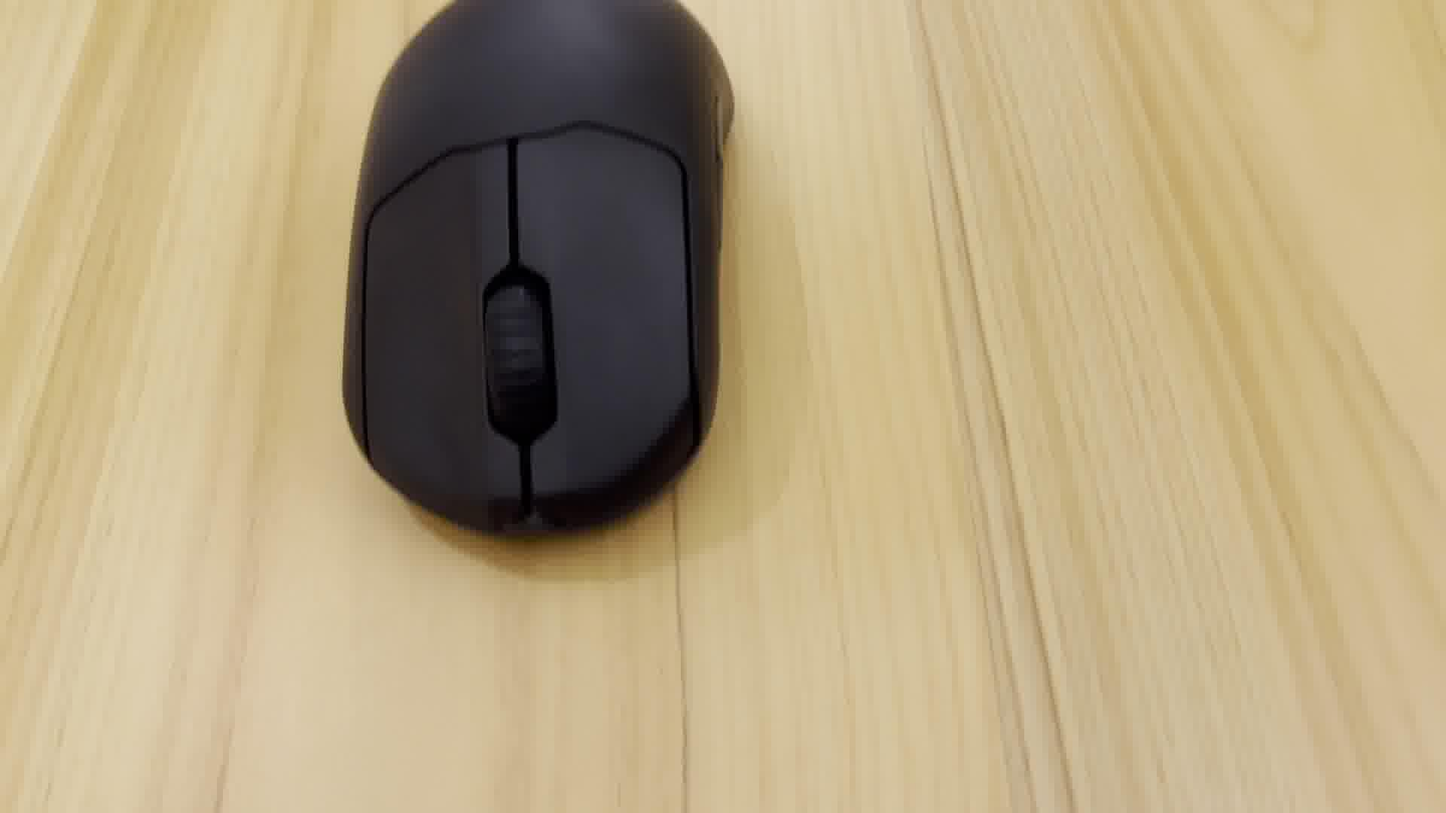steel-series: (327, 0, 749, 556)
